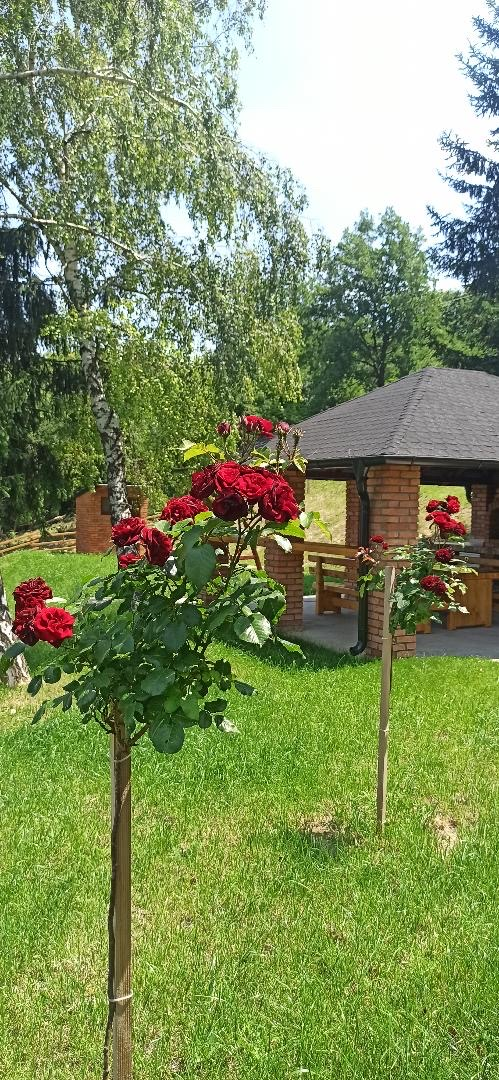rose: (254, 476, 305, 526), (214, 487, 258, 528), (32, 608, 76, 644), (13, 575, 54, 613), (112, 509, 148, 549), (146, 526, 172, 573), (164, 492, 201, 524), (241, 415, 277, 441), (188, 461, 212, 497), (420, 572, 448, 597), (214, 461, 247, 481), (430, 509, 452, 529), (446, 494, 462, 514), (372, 534, 388, 553), (434, 548, 454, 563), (426, 498, 442, 512)
